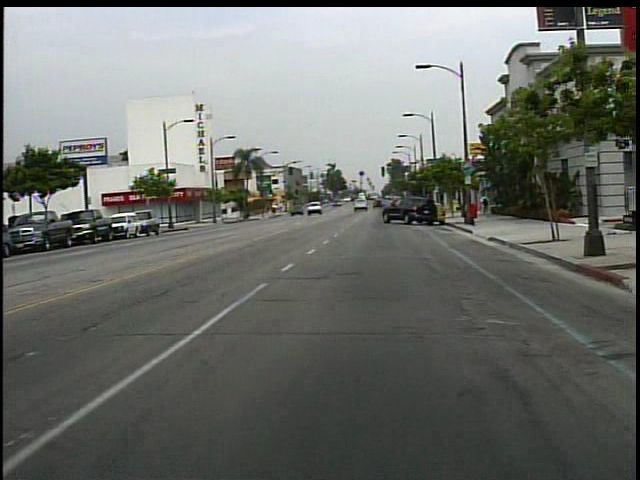person: (482, 189, 496, 220)
